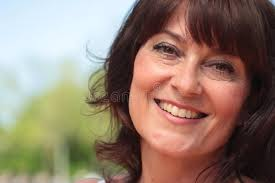white_female: (129, 31, 241, 151)
